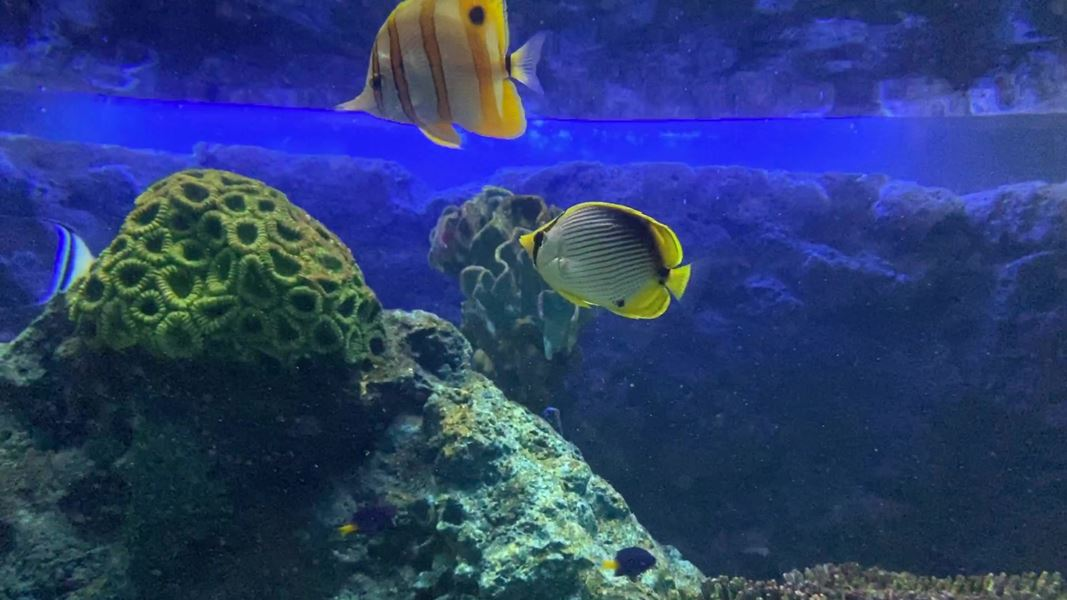Black-backed butterflyfish: (513, 195, 724, 332)
